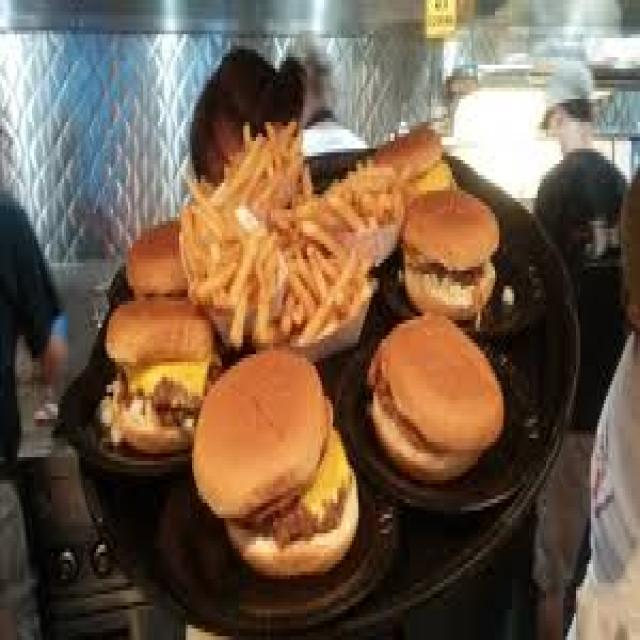Burger: (98, 114, 504, 583)
French Fries: (177, 118, 401, 354)
